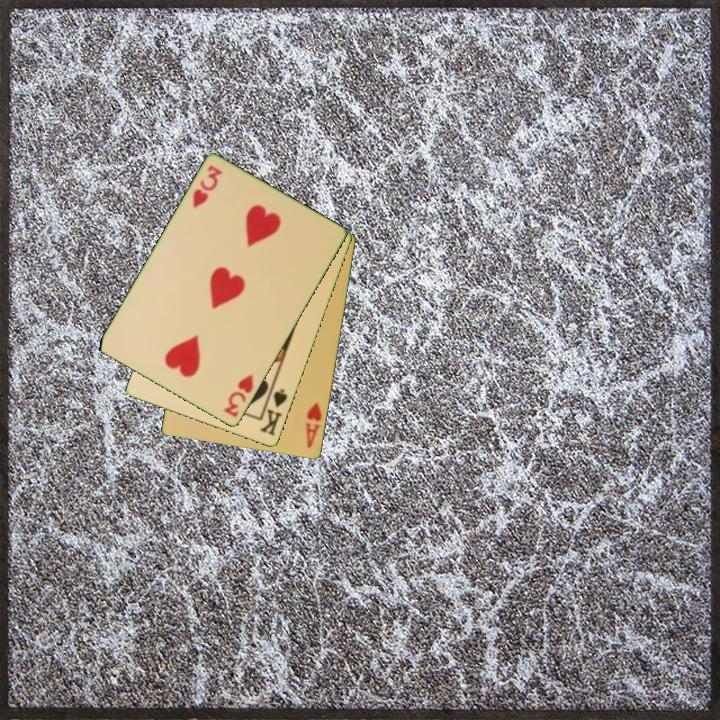3h: (189, 162, 225, 211), (221, 371, 256, 421)
Ah: (302, 399, 325, 451)
Ks: (257, 382, 291, 439)
